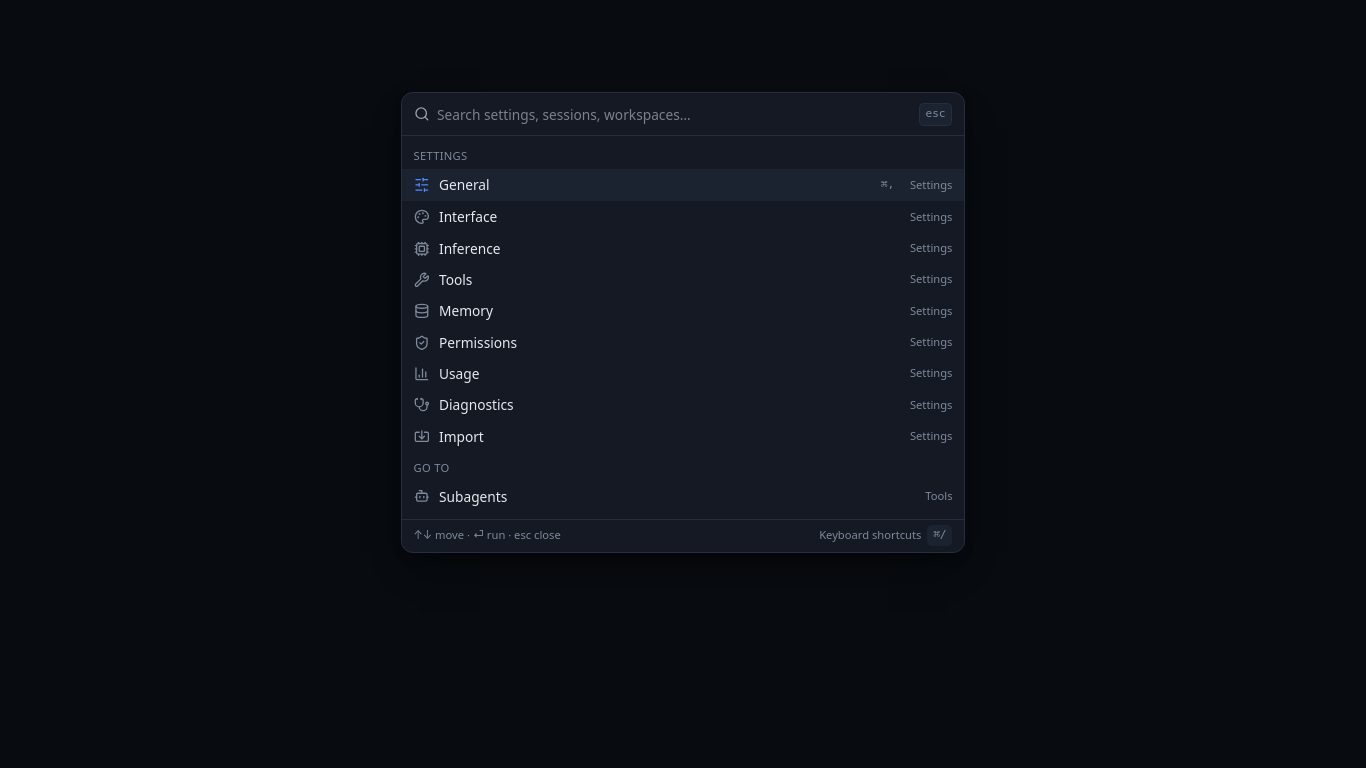
CommandPalette › says so when nothing matches instead of showing an empty list
Type "zzzz" into the dropdown. click: (674, 114)
box: x1=437 y1=104 x2=911 y2=124
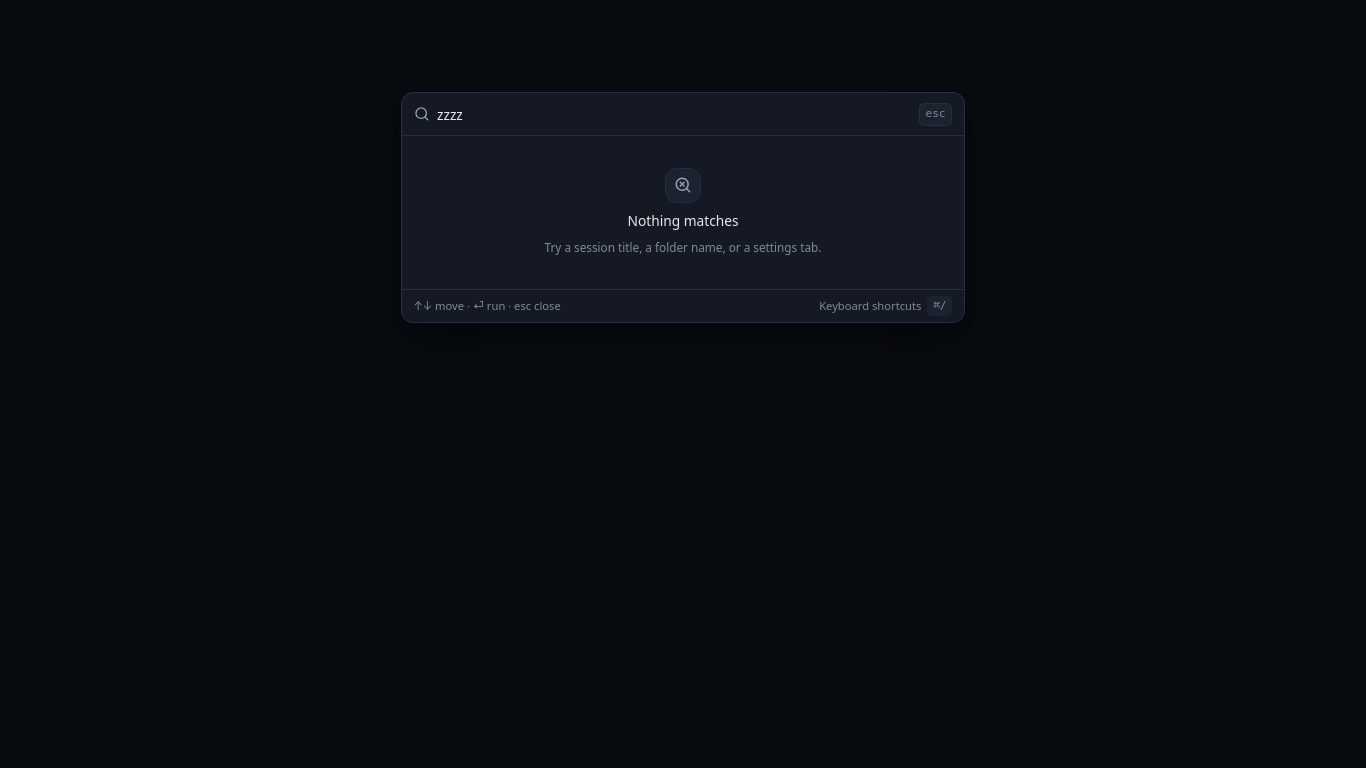
Expected: the text "Nothing matches" is shown, x1=628 y1=211 x2=738 y2=230
Expected: no options are shown
